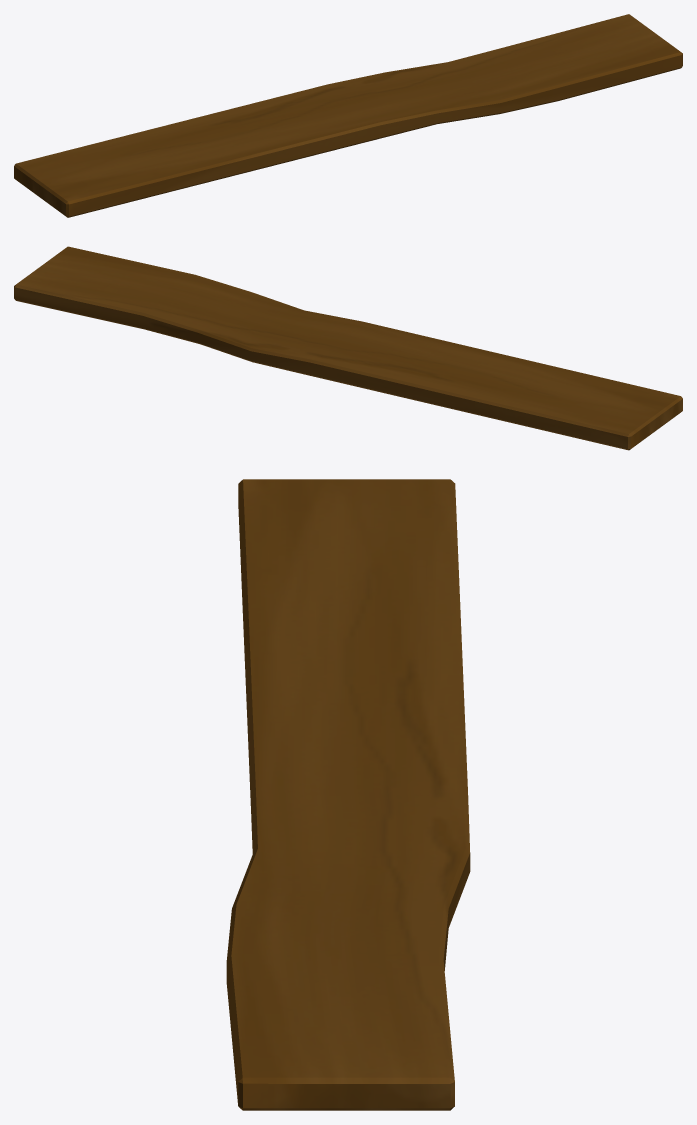
The model's file is Mesh_WoodBuilding_CurvedPlank.fbx.
3 renders of one model, top to bottom at view 1: azimuth 30°, elevation 25°; view 2: azimuth 150°, elevation 25°; view 3: azimuth 270°, elevation 25°, orthographic. The views are drawn at different scales.
Visible parts, largest first — view 1: polySurface130; view 2: polySurface130; view 3: polySurface130.
Part boxes in pixels (x1,y1,x2,y2): polySurface130: (14, 14, 682, 217); polySurface130: (14, 246, 682, 450); polySurface130: (226, 479, 470, 1110).
Size of the model in its own units: 150 by 3.81 by 25.58.
